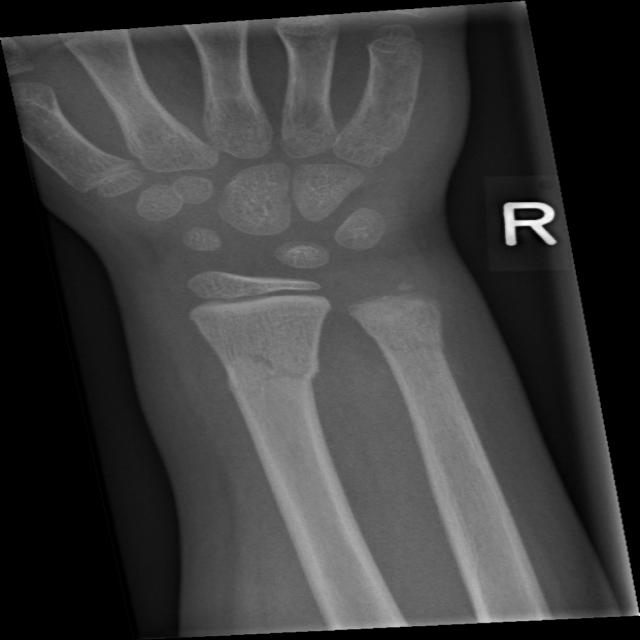radius fracture: (190, 329, 344, 459)
